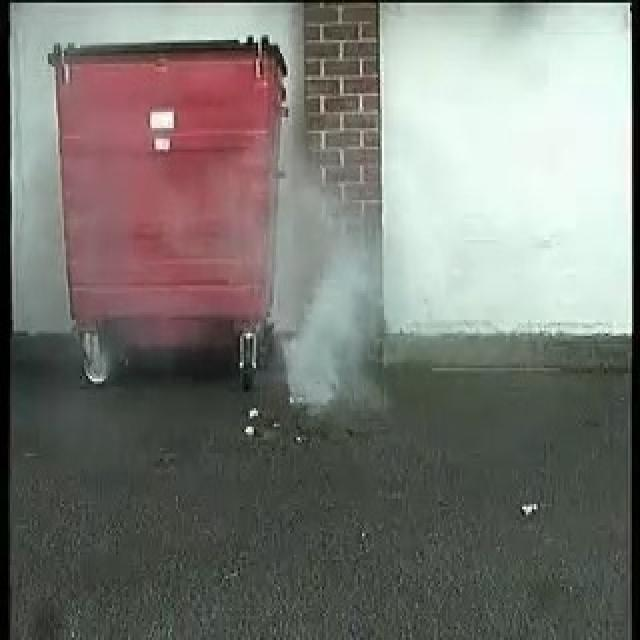Smoke: (272, 159, 394, 406)
